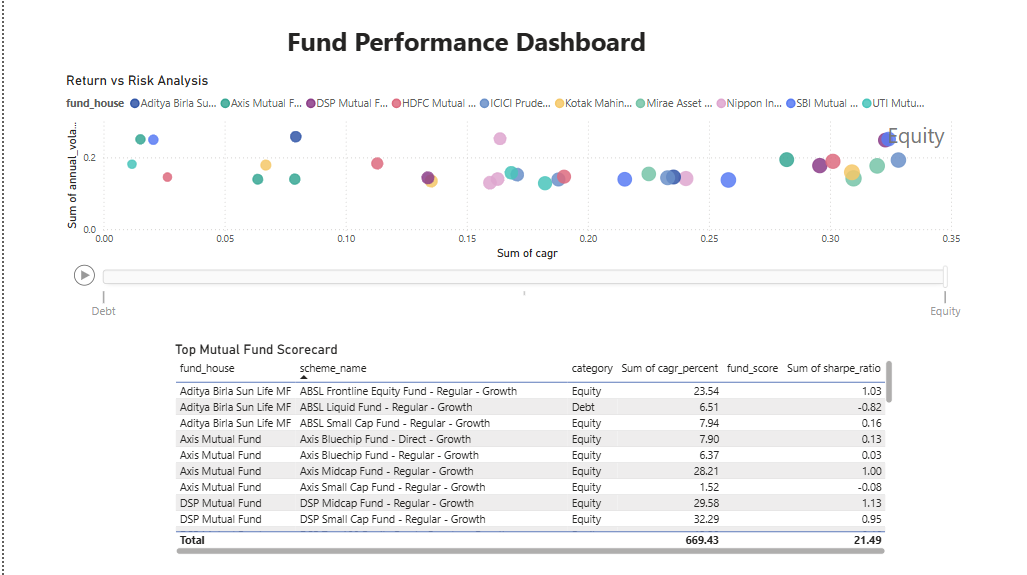

This screenshot's page, from the dashboard's own definition file:
{"tool":"powerbi","page":{"name":"Fund Performance","canvas":[1280,720],"ordinal":1},"visuals":[{"type":"scatterChart","title":"Return vs Risk Analysis","fields":{"X":["Sum(cagr_table.cagr)"],"Y":["Sum(sharpe_ratio.annual_volatility)"],"Category":["01_fund_master_clean.scheme_name","fund_scorecard.fund_score"],"Series":["01_fund_master_clean.fund_house"],"Play":["01_fund_master_clean.category"],"Size":["Sum(sharpe_ratio.sharpe_ratio)"]},"box":[72,89.5,1128.3,320],"z":0},{"type":"textbox","box":[349.2,23.3,675,52.5],"z":1000},{"type":"tableEx","title":"Top Mutual Fund Scorecard","fields":{"Values":["01_fund_master_clean.fund_house","01_fund_master_clean.scheme_name","01_fund_master_clean.category","Sum(cagr_table.cagr_percent)","fund_scorecard.fund_score","Sum(sharpe_ratio.sharpe_ratio)"]},"box":[209.1,426,906.5,272.3],"z":2000}]}

Visuals, with their boxes in screenshot pixels (x1, y1, x2, y2), scaled from the page's 1280x720 canvas onto the 1027x575 screenshot:
"Return vs Risk Analysis" scatterChart: bbox=(58, 71, 963, 327)
textbox: bbox=(280, 19, 822, 61)
"Top Mutual Fund Scorecard" tableEx: bbox=(168, 340, 895, 558)
